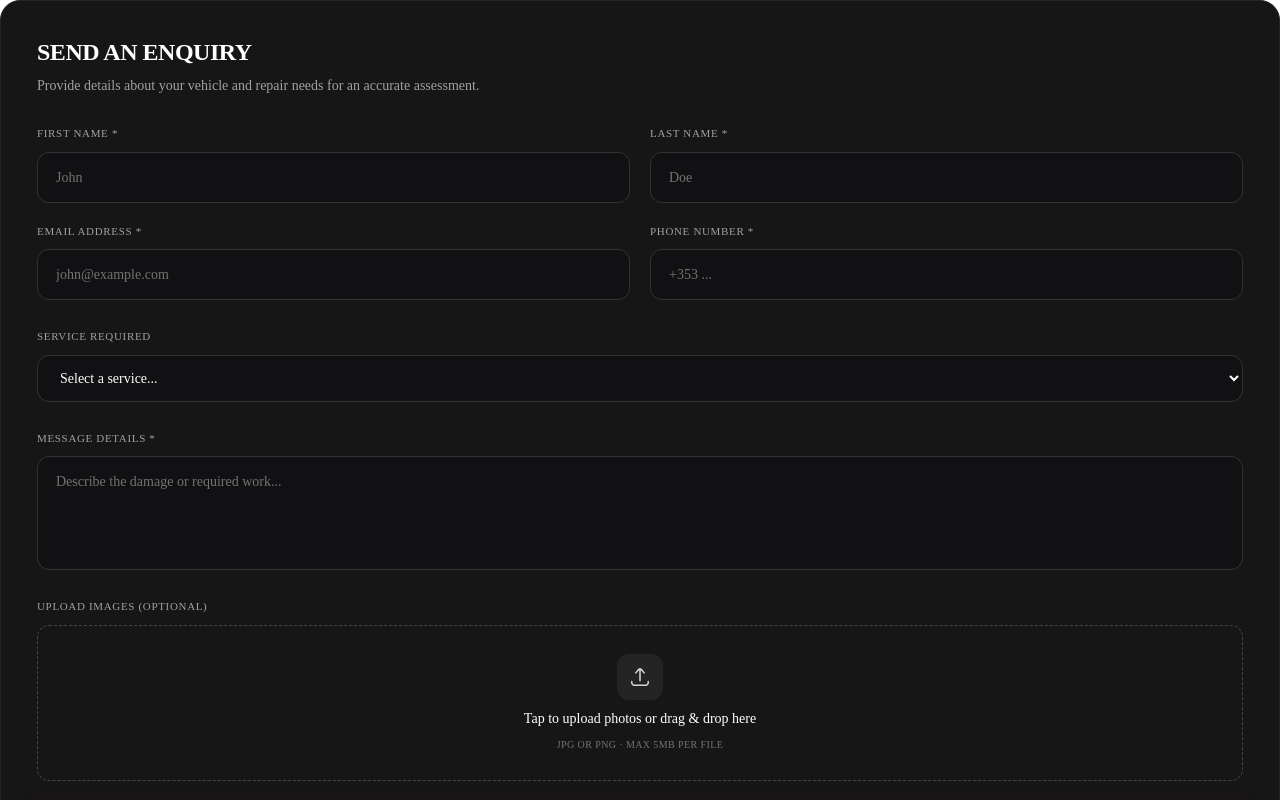
Test: generate_lead from the contact form › pushes nothing when the submit fails
In the field labelled "First Name *": (334, 177) [37,152,630,202], type "Pat"
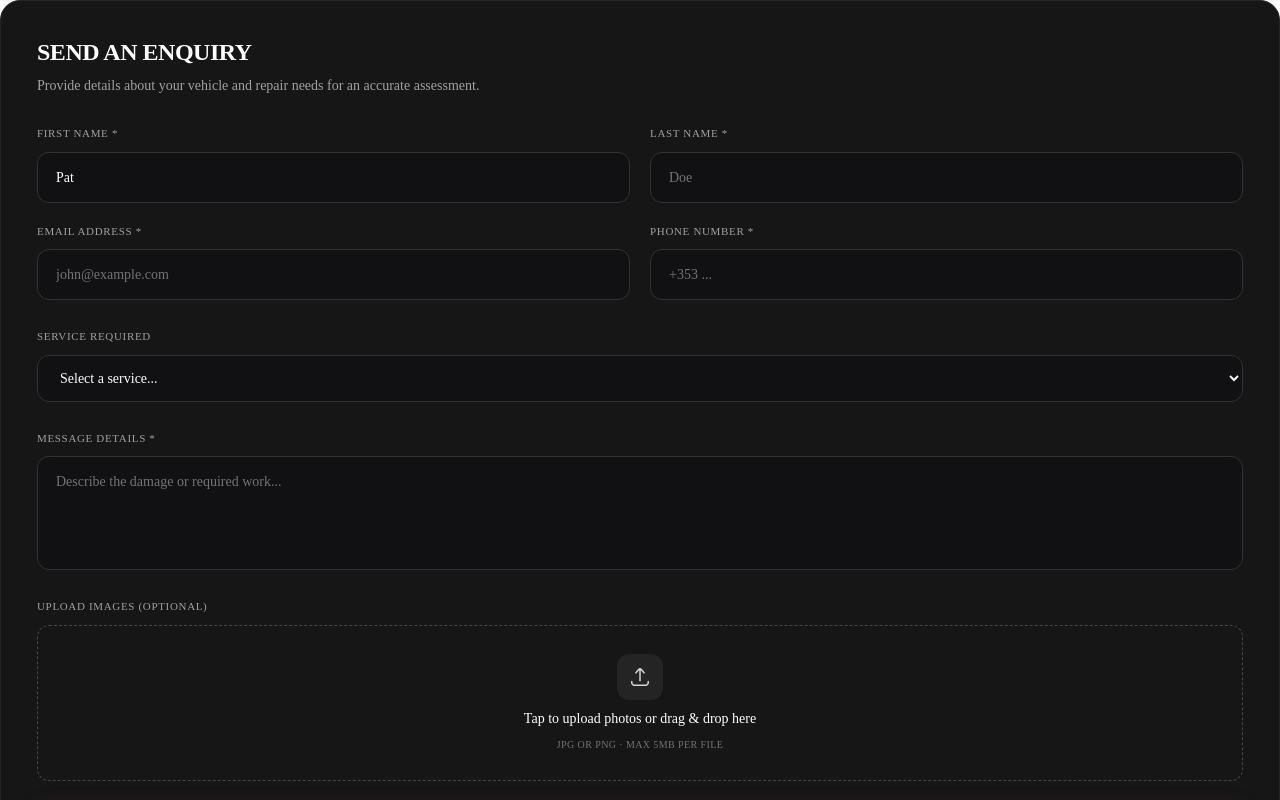
In the field labelled "Last Name *": (946, 177) [650,152,1243,202], type "Quinn"
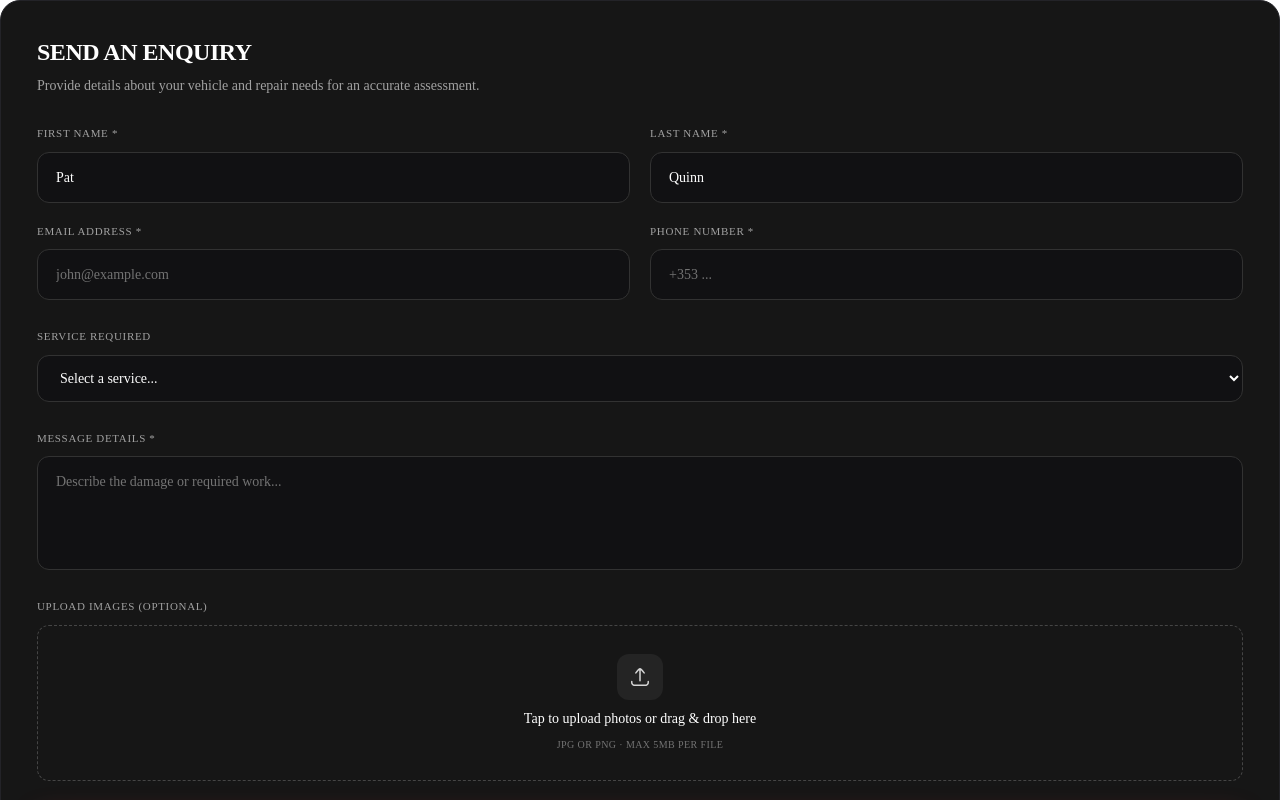
In the field labelled "Email Address *": (334, 274) [37,249,630,300], type "pat@example.com"
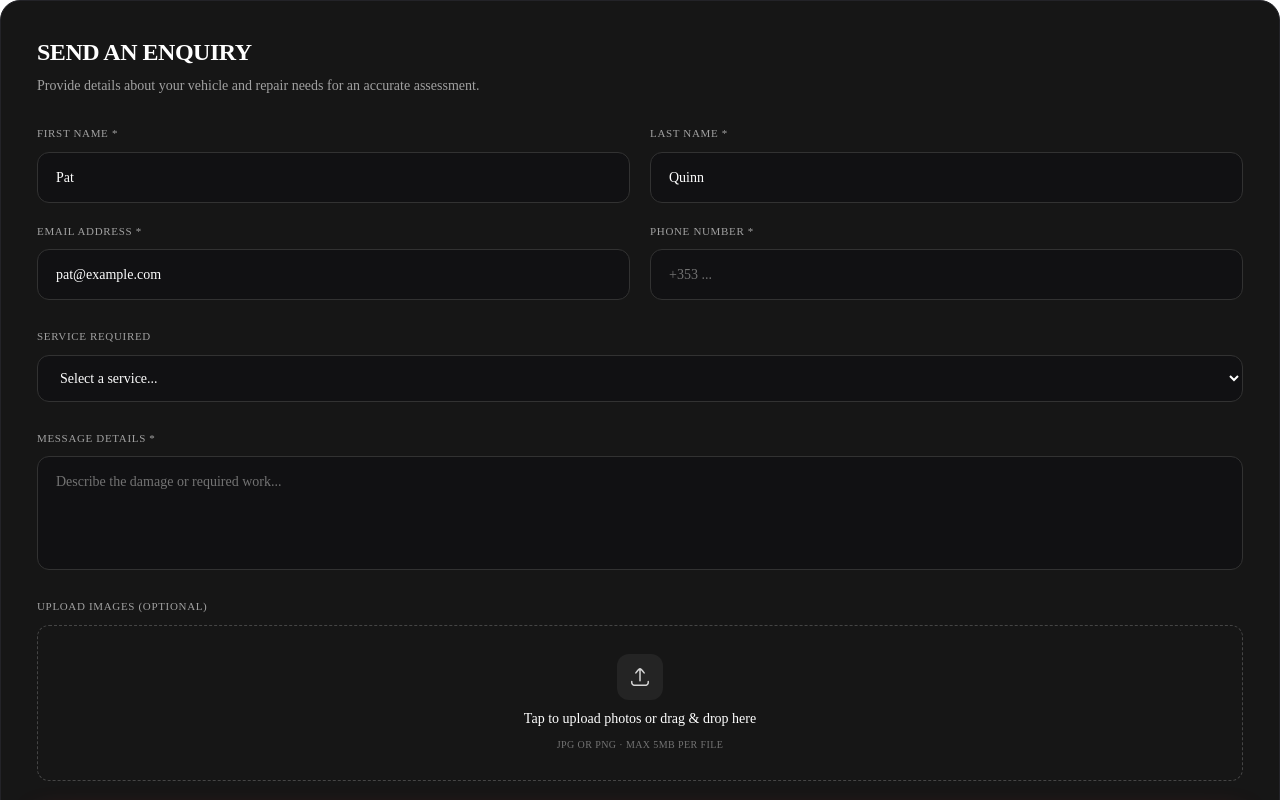
In the field labelled "Phone Number *": (946, 274) [650,249,1243,300], type "0871234567"
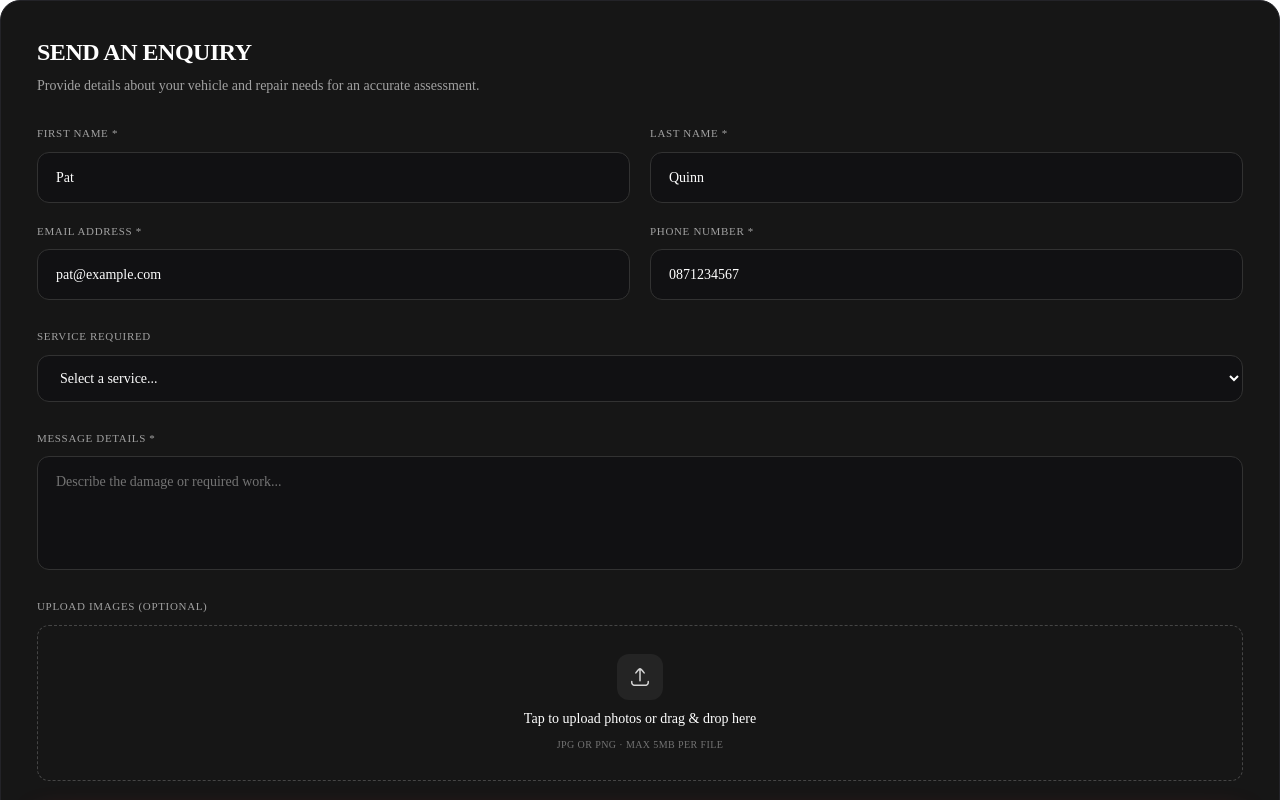
In the text box labelled "Message Details *": (640, 513) [37,456,1243,570], type "Hello there"
(page scrolled)
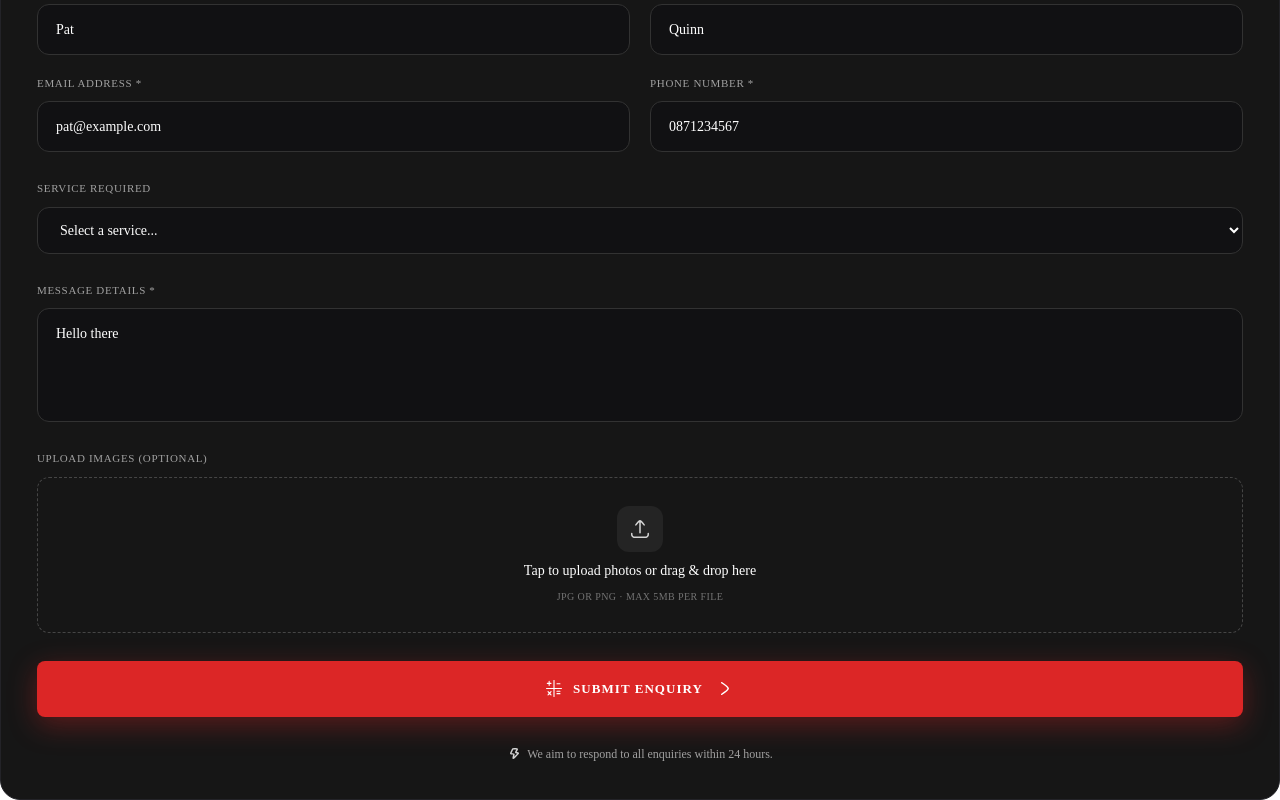
Click the button "Submit enquiry": (640, 688) [37,660,1243,716]
(page scrolled)
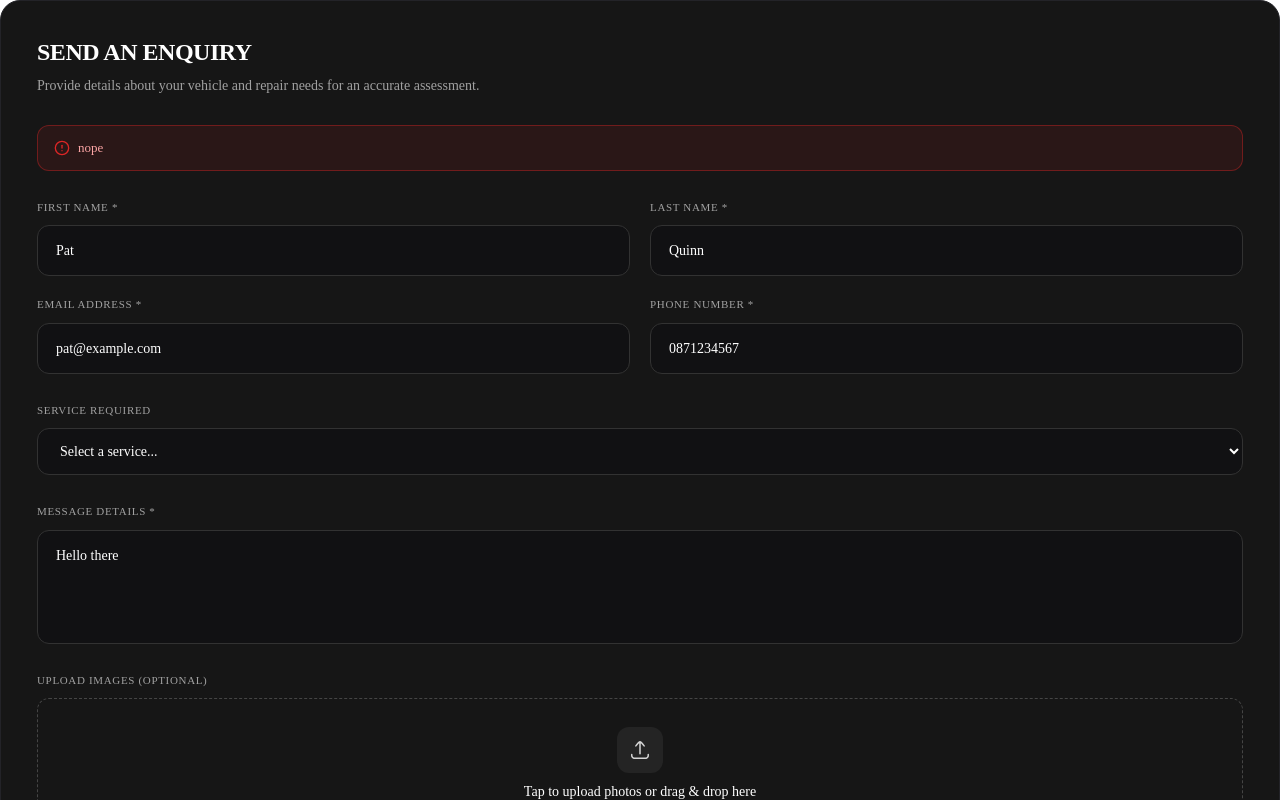
Now the text "nope" is shown, box [78,138,103,158]
